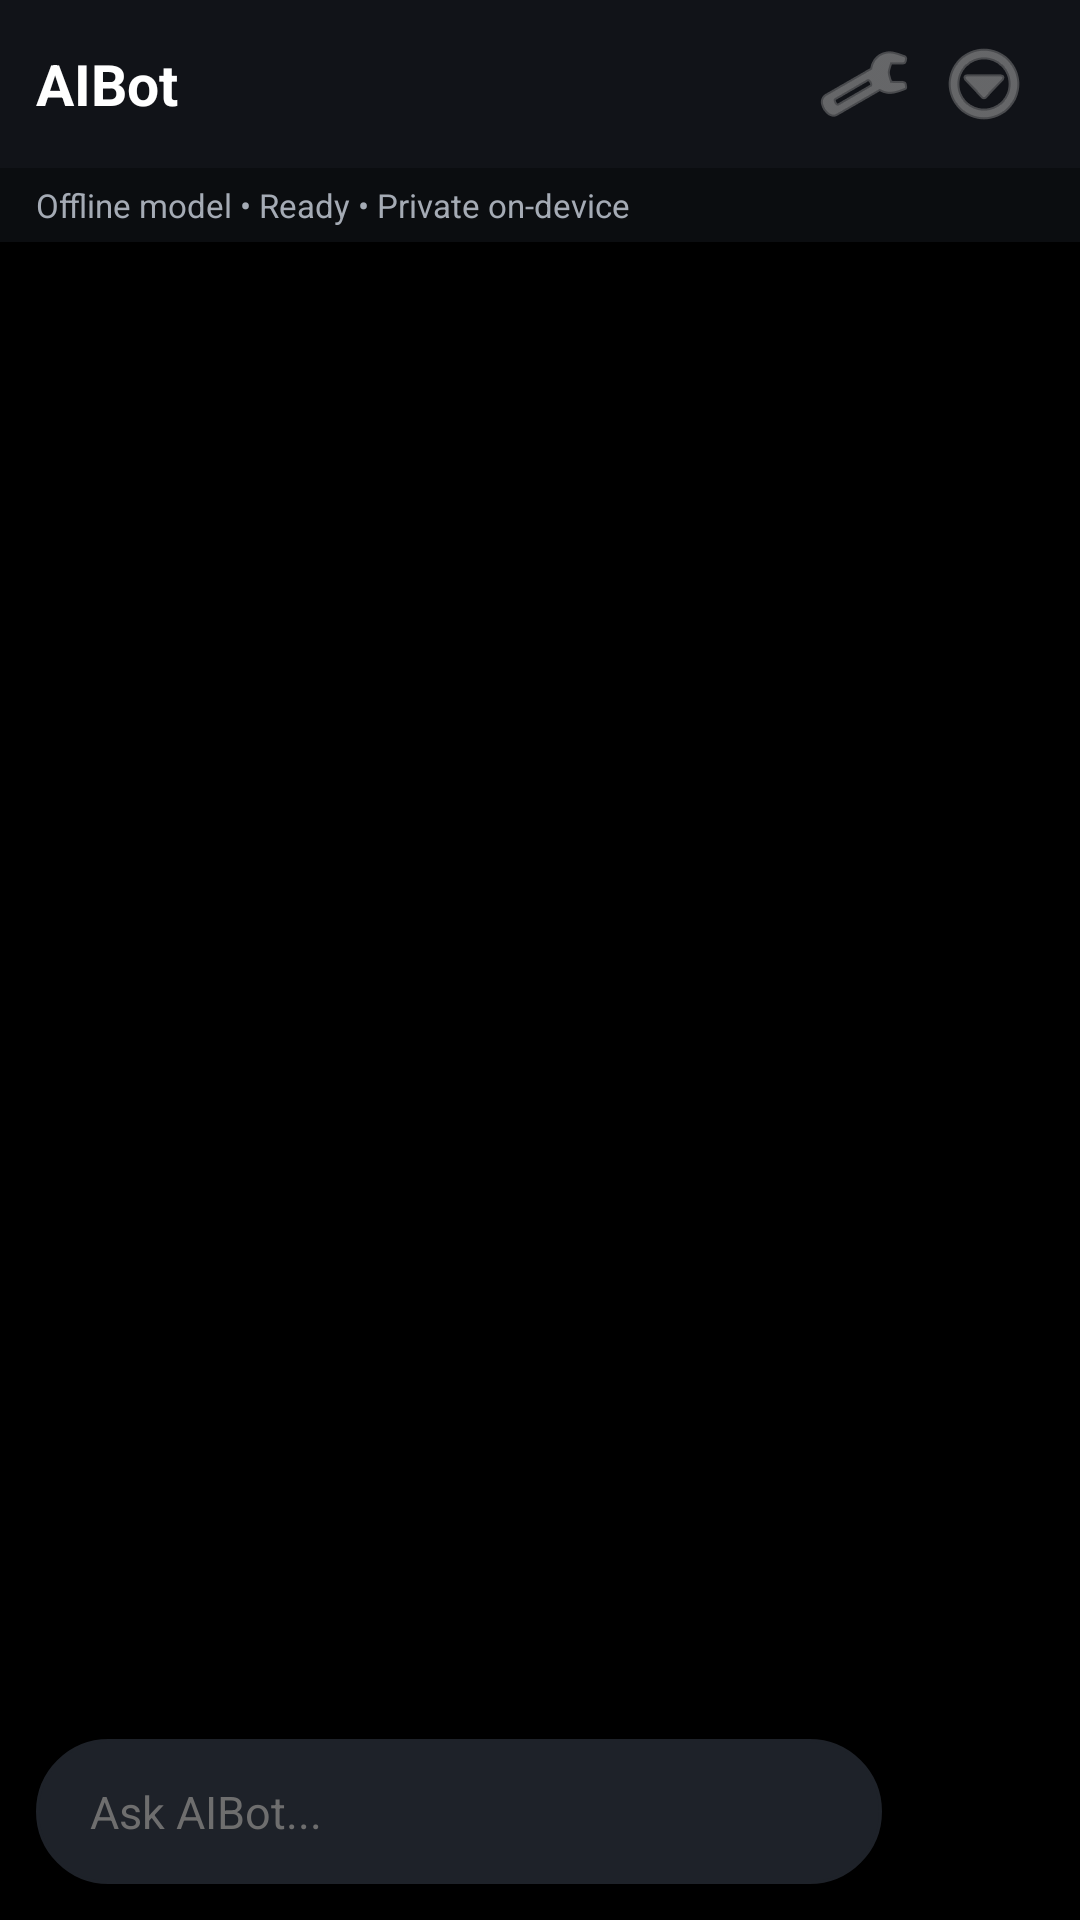

Icon bounding boxes for this 1080px×1920px phone screenshot, format (x1, y1, x2, y2):
manage: (821, 51, 907, 117)
more: (949, 49, 1019, 119)
